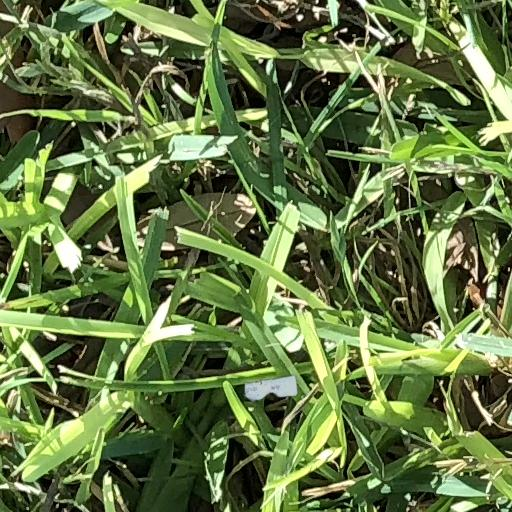smoke: (246, 376, 297, 400)
